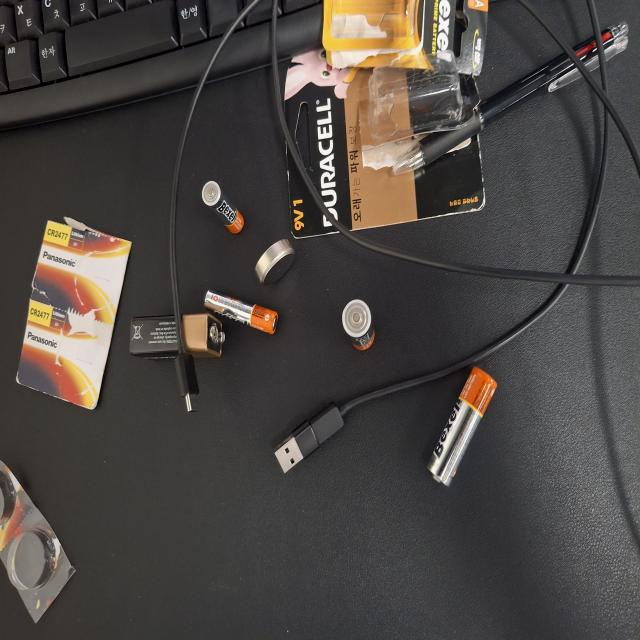9V: (233, 558, 269, 640)
AA: (277, 190, 365, 286), (224, 352, 264, 398)
AAA: (216, 485, 252, 579), (136, 528, 176, 586)
COIN: (180, 464, 213, 512)
